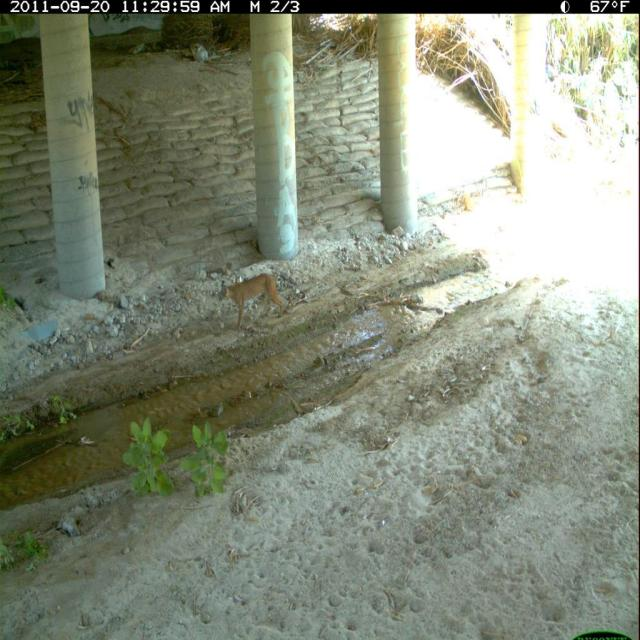bobcat: (216, 268, 287, 336)
